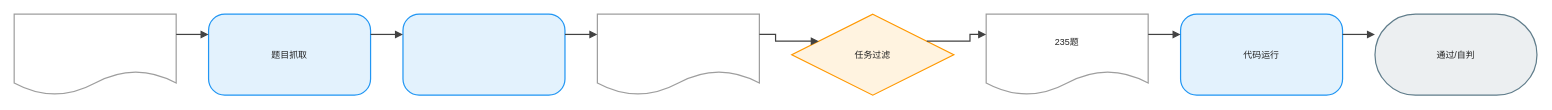
This 1552x110 diagram has some shape labels left out. The box of each missing label's shape, as (x1, y1, x2, y2) in pixels:
IOI/ICPC: (13, 13, 176, 95)
格式清洗: (402, 13, 565, 95)
测试用例: (596, 13, 760, 95)
